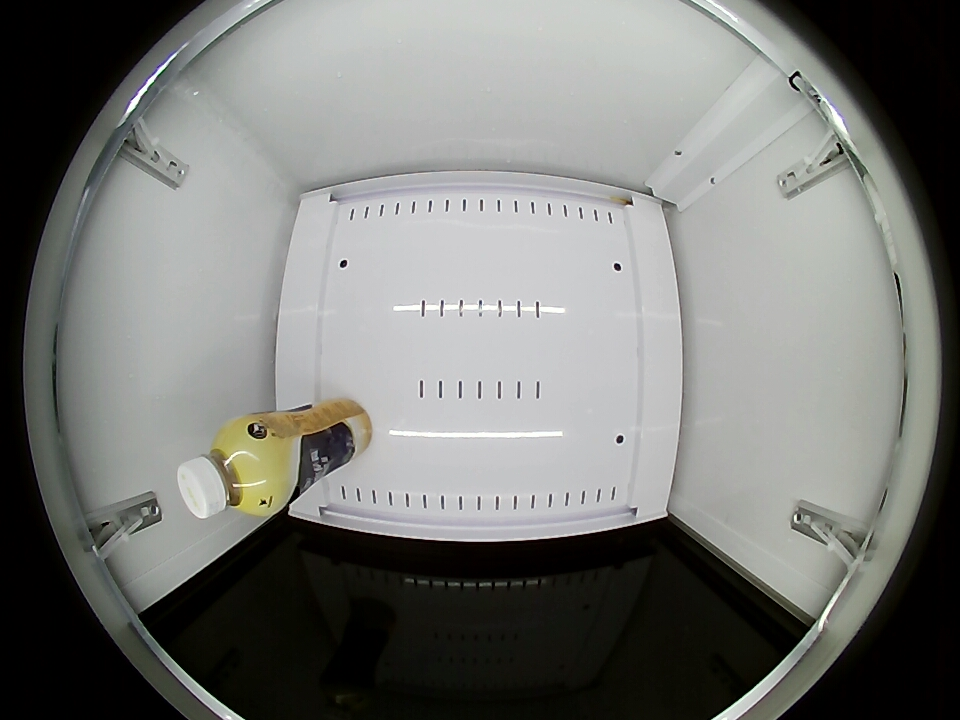asamu: (177, 423, 279, 519)
